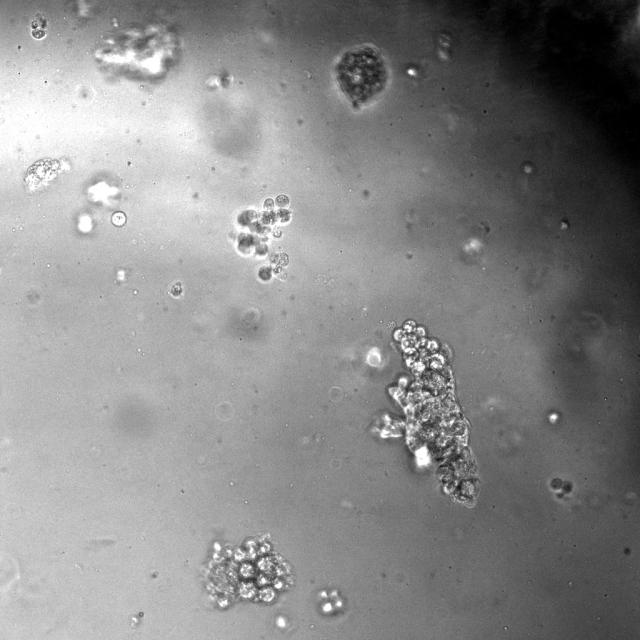organoid: (373, 319, 479, 507), (204, 534, 292, 609), (231, 194, 292, 282), (94, 21, 180, 81), (332, 43, 391, 111), (23, 158, 70, 192), (316, 586, 349, 619), (550, 477, 572, 498), (31, 13, 47, 39), (168, 281, 183, 299), (111, 210, 126, 227)
